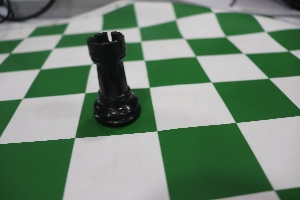black_rook: (74, 23, 151, 135)
